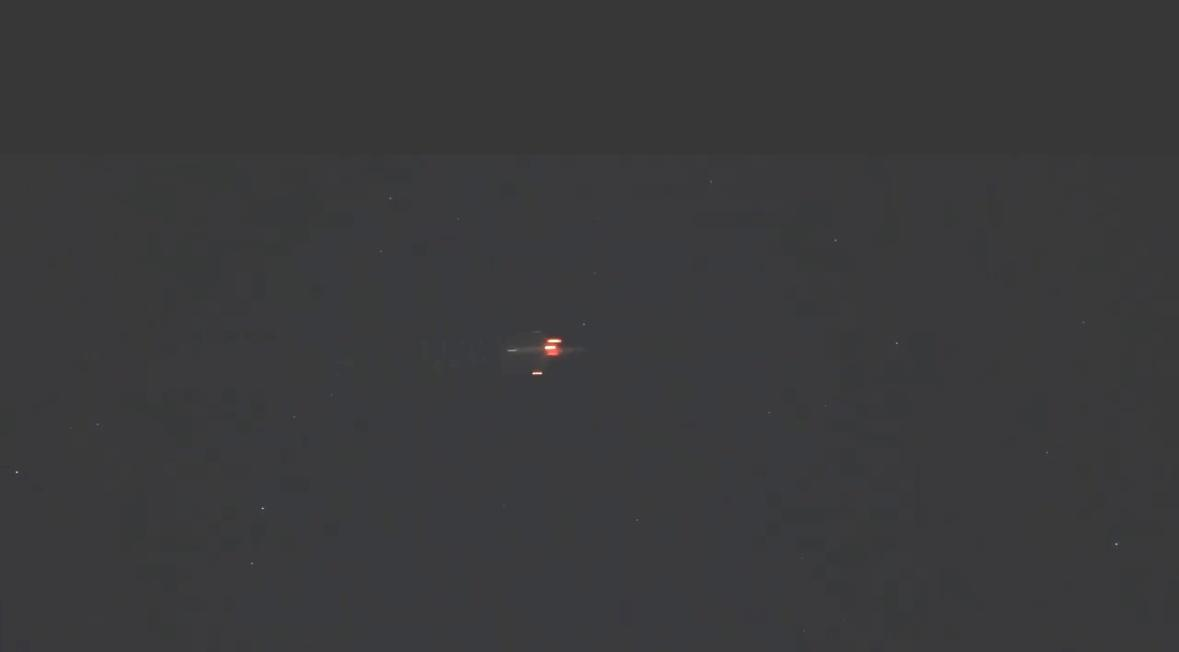Plane: (478, 317, 607, 392)
